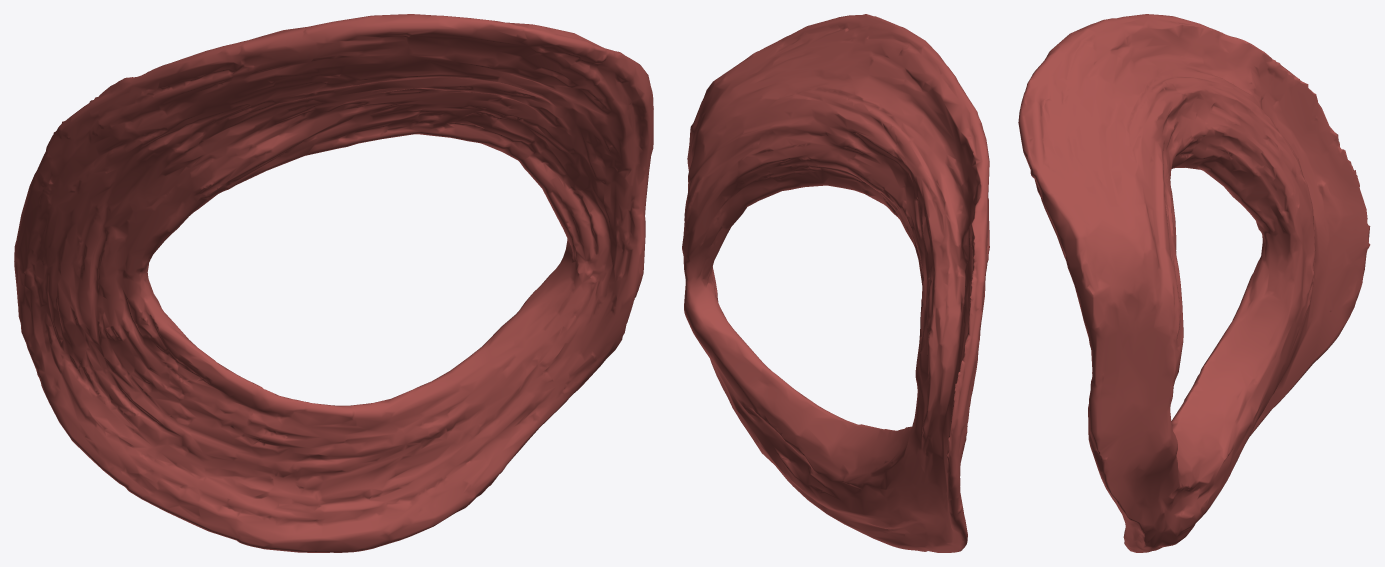
File: FMA46785.glb
3 renders of one model, left to right at view 1: azimuth 30°, elevation 25°; view 2: azimuth 150°, elevation 25°; view 3: azimuth 270°, elevation 25°, orthographic. The views are drawn at different scales.
Visible parts, largest first — view 1: FMA46785; view 2: FMA46785; view 3: FMA46785.
Part boxes in pixels (<box>): FMA46785: <box>14,14,653,552</box>; FMA46785: <box>682,14,989,552</box>; FMA46785: <box>1018,14,1370,552</box>.
Bounding box in the file's own units: 0.0429 × 0.0481 × 0.0306.
